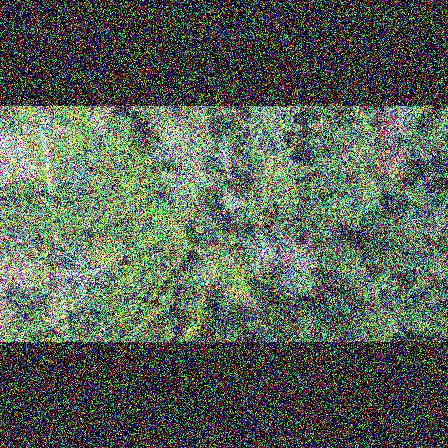Dead: (52, 242, 116, 300), (281, 232, 331, 291), (368, 106, 424, 156), (206, 135, 252, 181), (241, 228, 284, 276), (213, 184, 243, 217)
